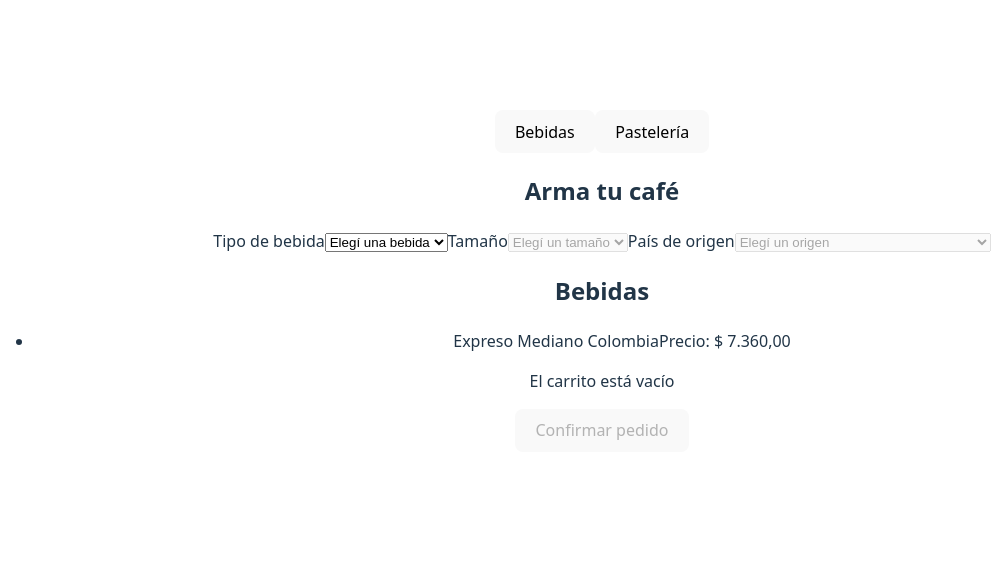
Scenario: Menu › limpia las opciones posteriores al cambiar una elección anterior
Step 1. Select "Expreso" in the dropdown labelled "Tipo de bebida" → (386,242), box [325,233,448,252]
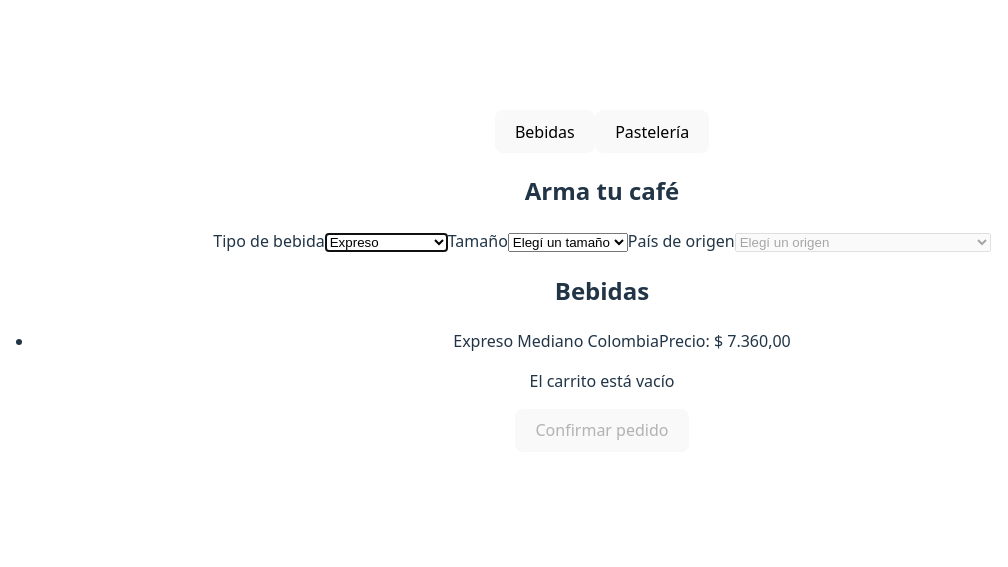
Step 2. Select "Mediano" in the dropdown labelled "Tamaño" → (568,242), box [508,233,628,252]
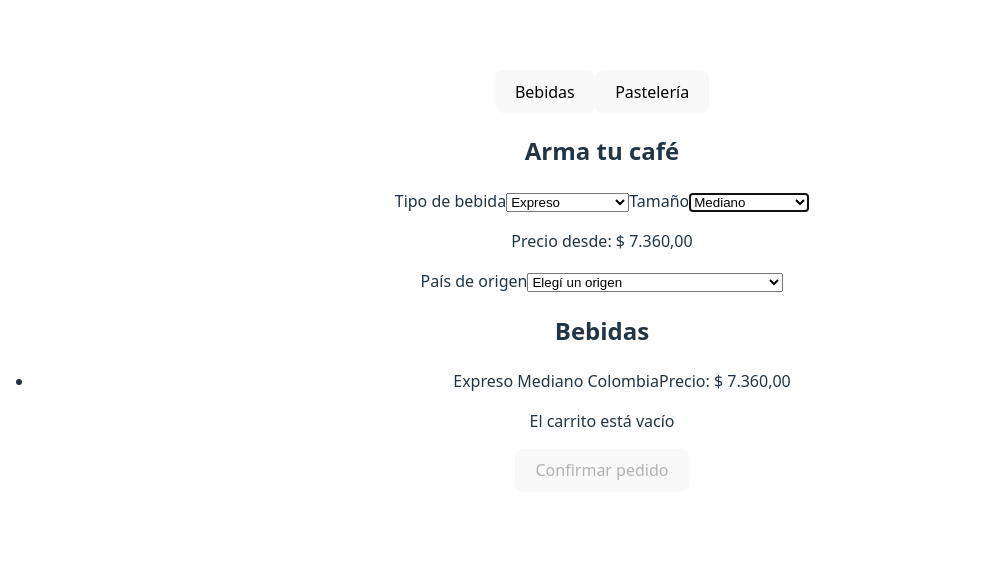
Step 3. Select "Colombia — Dulce, equilibrado, frutal." in the dropdown labelled "País de origen" → (655,282), box [527,273,783,292]
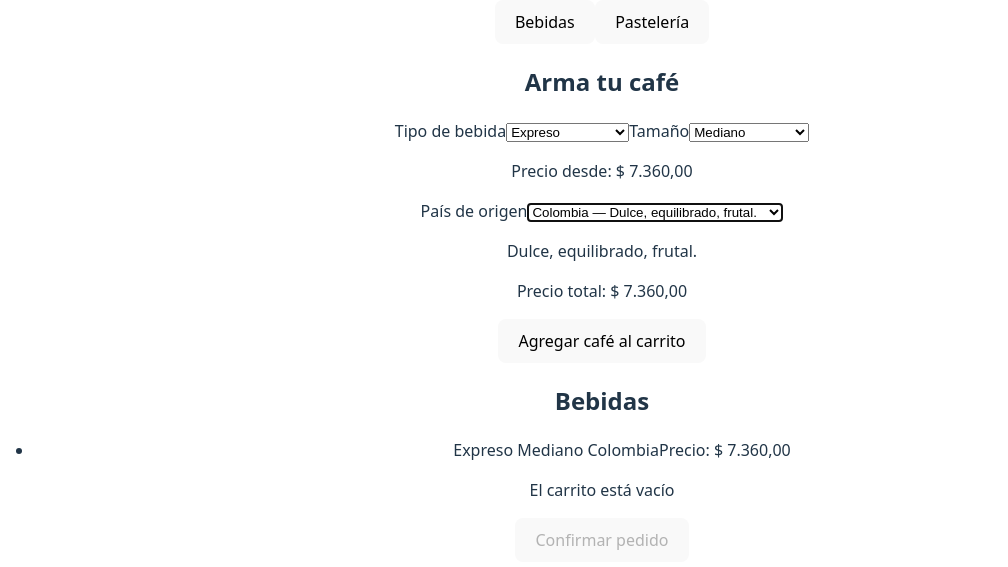
Step 4. Select "Filtrado" in the dropdown labelled "Tipo de bebida" → (568,133), box [506,123,629,142]
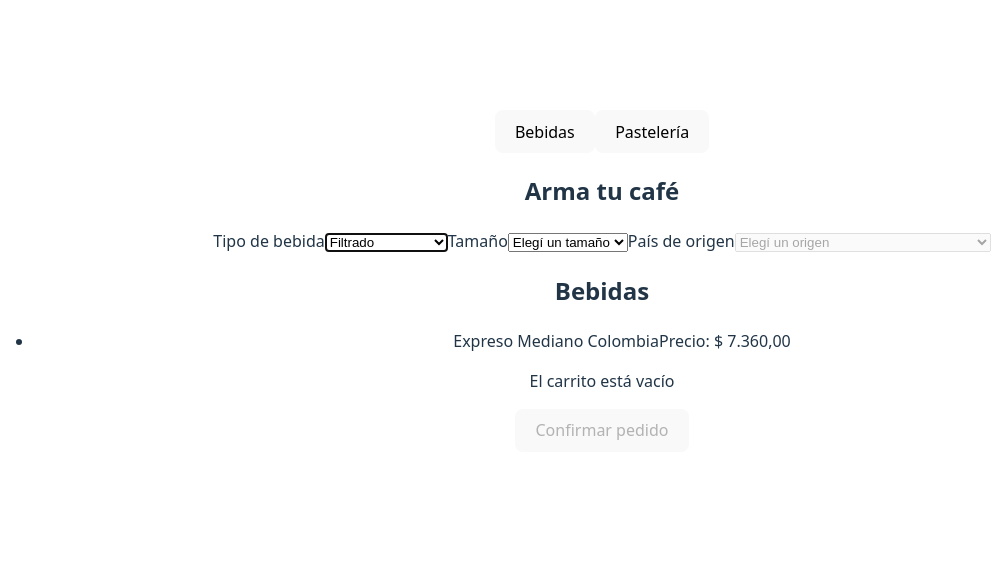
Now the dropdown labelled "País de origen" is disabled, box [735,233,991,252]
